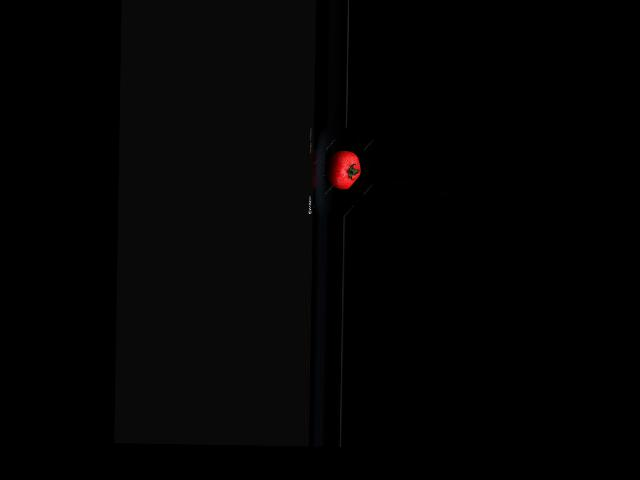tomato: (326, 149, 361, 189)
